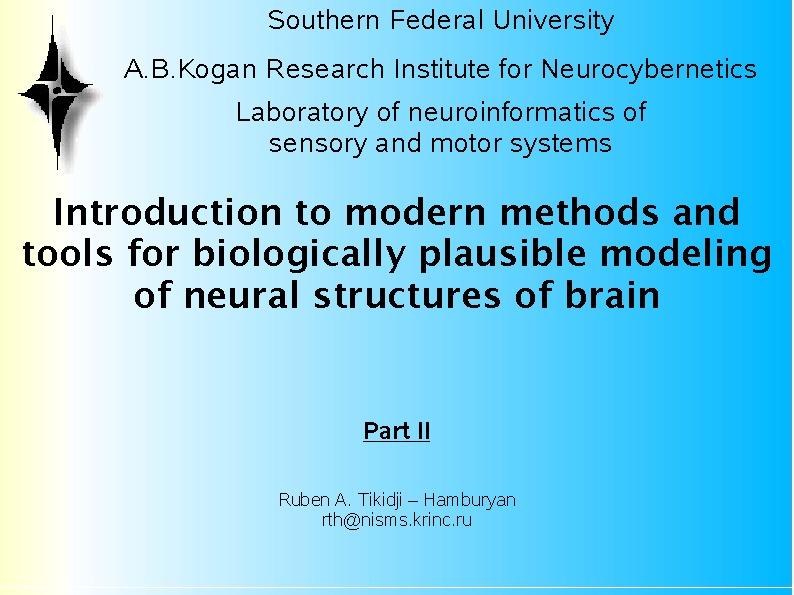subtitle: (8, 187, 784, 340), (263, 398, 537, 564)
title: (111, 1, 778, 170)
